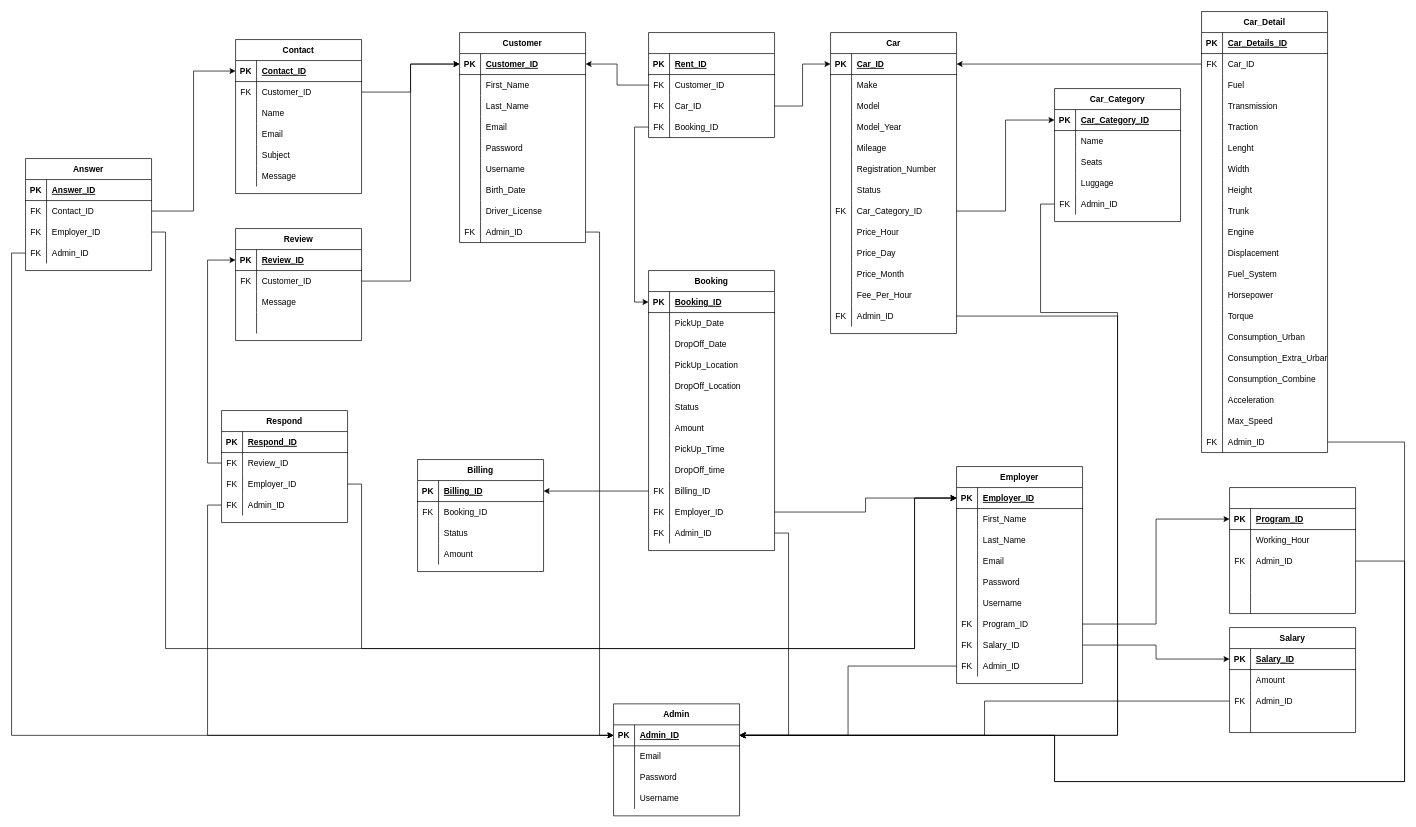
Some shapes in this 1416 by 827 pixel diagram are drawn without their labels. The shapes that lost their labels are listed below. From the top down, each one's box as (x1, y1, x2, y2) in pixels, then its label:
(648, 32, 775, 138): Rents
(1229, 487, 1356, 614): Program_Hour
